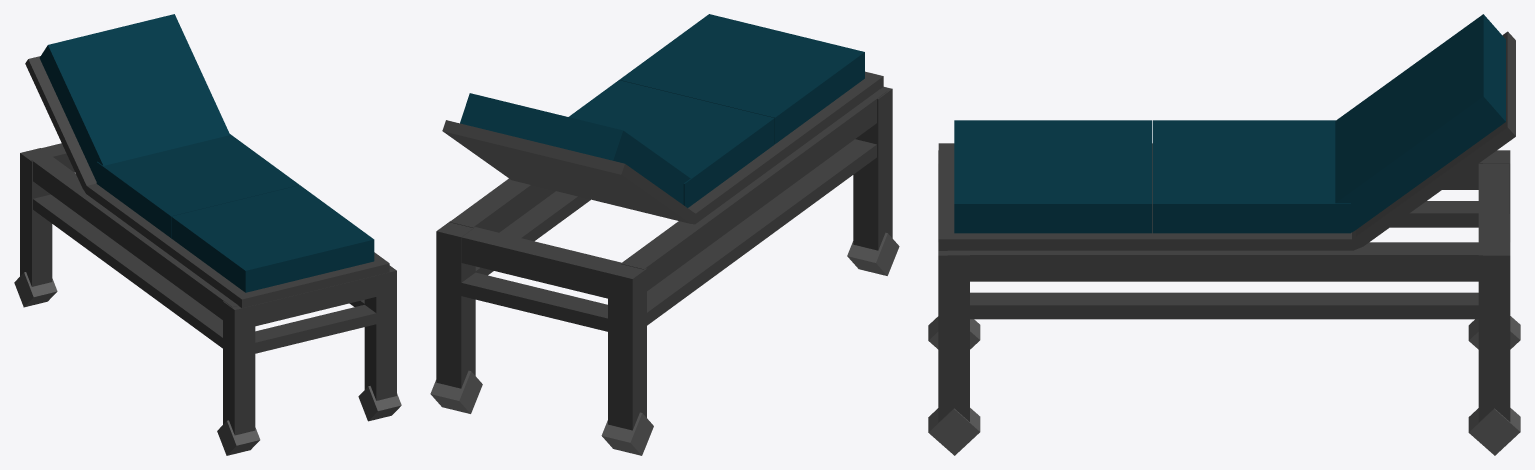
Rendered from gurney 1.fbx.
3 views of the same model, side by side, from view 1: azimuth 30°, elevation 25°; view 2: azimuth 150°, elevation 25°; view 3: azimuth 270°, elevation 25° (orthographic). The views are drawn at different scales.
Visible parts, largest first — view 1: Cube.002, Cube, Cube.001, Cube.003, Cube.009, Cube.013, Cube.007, Cube.006, Cube.005, Cube.014, Cube.010, Cube.016 (+2 smaller); view 2: Cube, Cube.003, Cube.001, Cube.009, Cube.013, Cube.002, Cube.005, Cube.011, Cube.004, Cube.007, Cube.015, Cube.008 (+4 smaller); view 3: Cube, Cube.001, Cube.002, Cube.008, Cube.012, Cube.003, Cube.004, Cube.006, Cube.011, Cube.013, Cube.016, Cube.018.
Part boxes in pixels (<box>): Cube.002: <box>39,14,229,181</box>; Cube: <box>171,185,374,292</box>; Cube.001: <box>96,134,299,237</box>; Cube.003: <box>25,56,389,308</box>; Cube.009: <box>31,155,238,319</box>; Cube.013: <box>33,194,222,348</box>; Cube.007: <box>223,301,255,435</box>; Cube.006: <box>364,266,396,400</box>; Cube.005: <box>20,148,52,286</box>; Cube.014: <box>255,305,376,353</box>; Cube.010: <box>255,275,376,326</box>; Cube.016: <box>358,386,401,421</box>; Cube: <box>619,14,864,143</box>; Cube.003: <box>442,71,883,224</box>; Cube.001: <box>569,80,774,207</box>; Cube.009: <box>621,89,887,290</box>; Cube.013: <box>647,139,876,325</box>; Cube.002: <box>460,93,690,204</box>; Cube.005: <box>608,264,646,430</box>; Cube.011: <box>461,227,621,298</box>; Cube.004: <box>436,221,475,388</box>; Cube.007: <box>853,87,892,250</box>; Cube.015: <box>461,272,607,331</box>; Cube.008: <box>450,178,555,232</box>; Cube: <box>954,120,1152,233</box>; Cube.001: <box>1153,120,1350,233</box>; Cube.002: <box>1335,14,1505,232</box>; Cube.008: <box>947,242,1482,281</box>; Cube.012: <box>970,292,1478,319</box>; Cube.003: <box>938,31,1515,250</box>; Cube.004: <box>1478,242,1510,422</box>; Cube.006: <box>938,242,969,422</box>; Cube.011: <box>1478,164,1509,242</box>; Cube.013: <box>1390,201,1478,227</box>; Cube.016: <box>928,408,980,455</box>; Cube.018: <box>1468,408,1520,455</box>.
Bounding box in the file's own units: 224 × 337 × 521.
